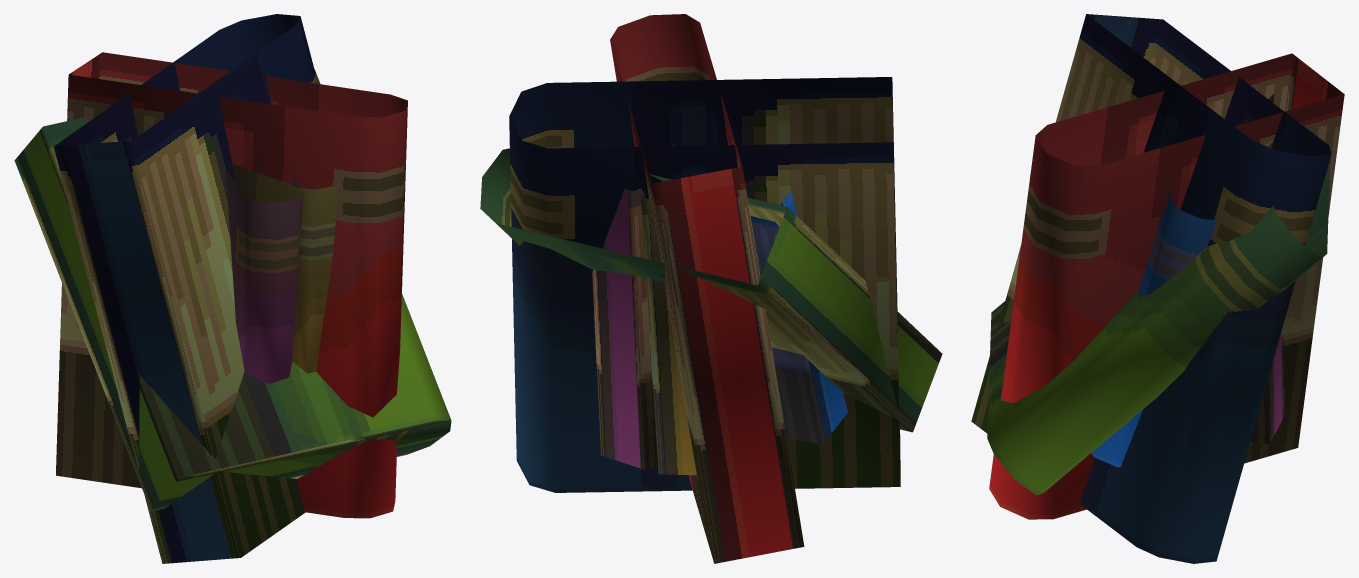
The picture shows the model from 3 angles, left to right: view 1: azimuth 30°, elevation 25°; view 2: azimuth 150°, elevation 25°; view 3: azimuth 270°, elevation 25°; orthographic projection. The views are drawn at different scales.
Visible parts, largest first — view 1: book; view 2: book; view 3: book.
Part boxes in pixels (bbox=[...]): book: bbox=[14, 14, 451, 563]; book: bbox=[480, 14, 942, 563]; book: bbox=[971, 14, 1344, 563].
Size of the model in its own units: 1.36 by 1.54 by 1.26.
Materials: 7 (7 with a texture image).
